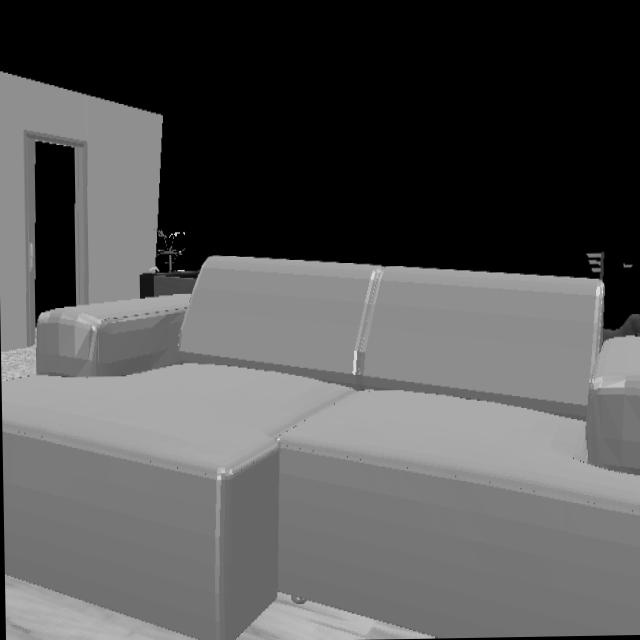sofa: (1, 256, 640, 640)
